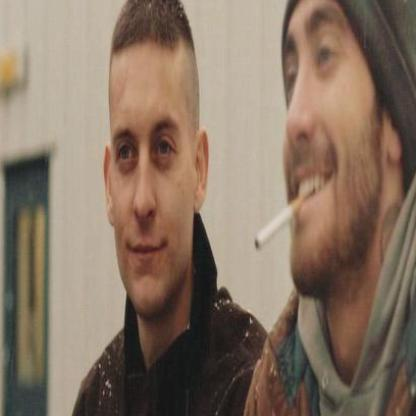cigarette: (254, 191, 310, 249)
person: (273, 0, 415, 415), (90, 0, 228, 415)
